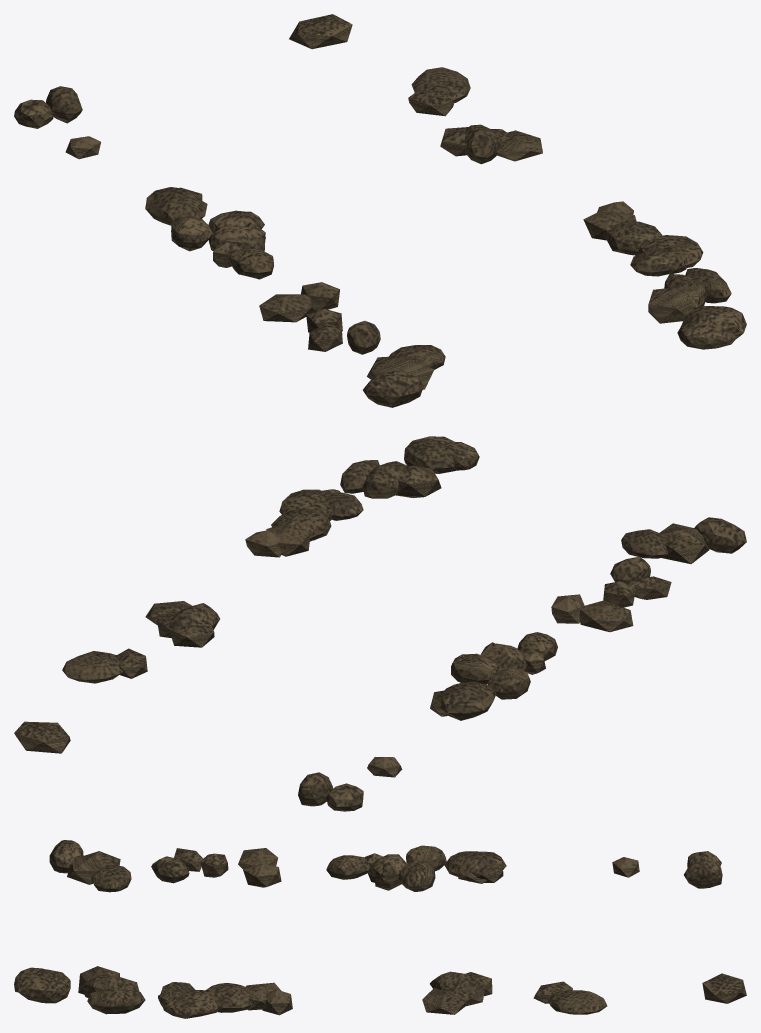
The model's file is ford-wet-stones.glb.
3 renders of one model, top to bottom at view 1: azimuth 30°, elevation 25°; view 2: azimuth 150°, elevation 25°; view 3: azimuth 270°, elevation 25°, orthographic. The views are drawn at different scales.
Visible parts, largest first — view 1: ford-wet-stones; view 2: ford-wet-stones; view 3: ford-wet-stones.
Part boxes in pixels (x1,y1,x2,y2): ford-wet-stones: (14,14,746,407); ford-wet-stones: (14,436,746,811); ford-wet-stones: (14,840,746,1018).
Size of the model in its own units: 5.39 by 0.4689 by 9.93.
Materials: 1 (1 with a texture image).
